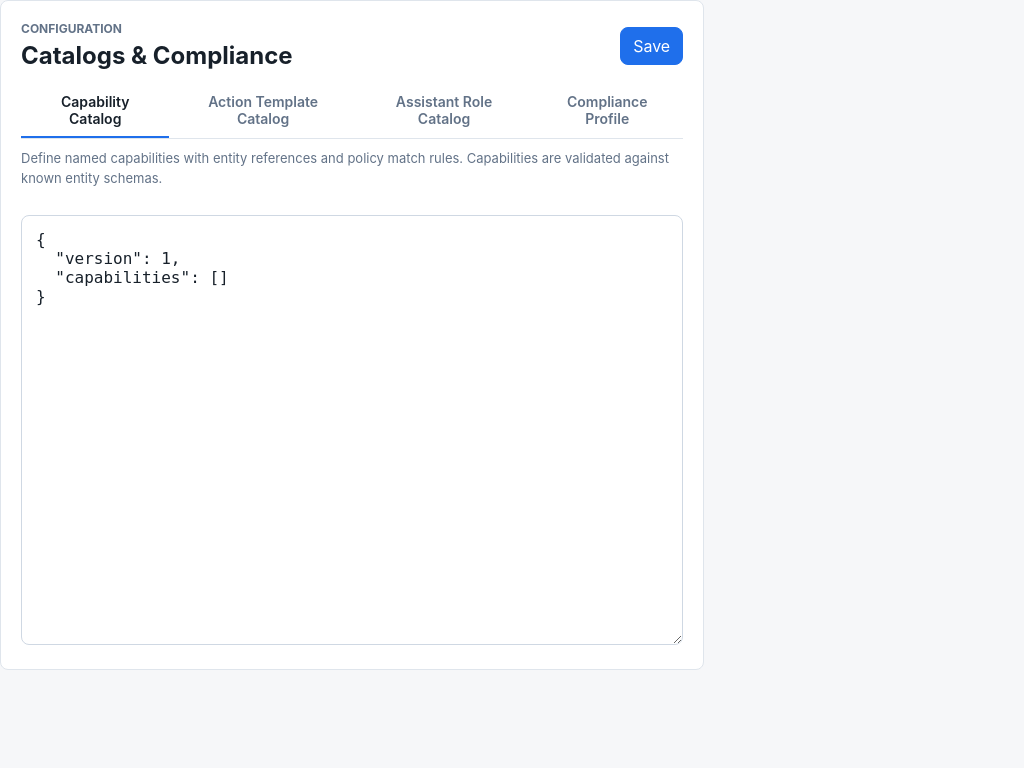
Test: CatalogsWorkspace › switches tabs and loads the corresponding catalog
Expected: the text box named "Capability Catalog JSON" is shown, [21,215,683,645]
Click the button "Compliance Profile" at x=607, y=111, box [531,84,683,138]
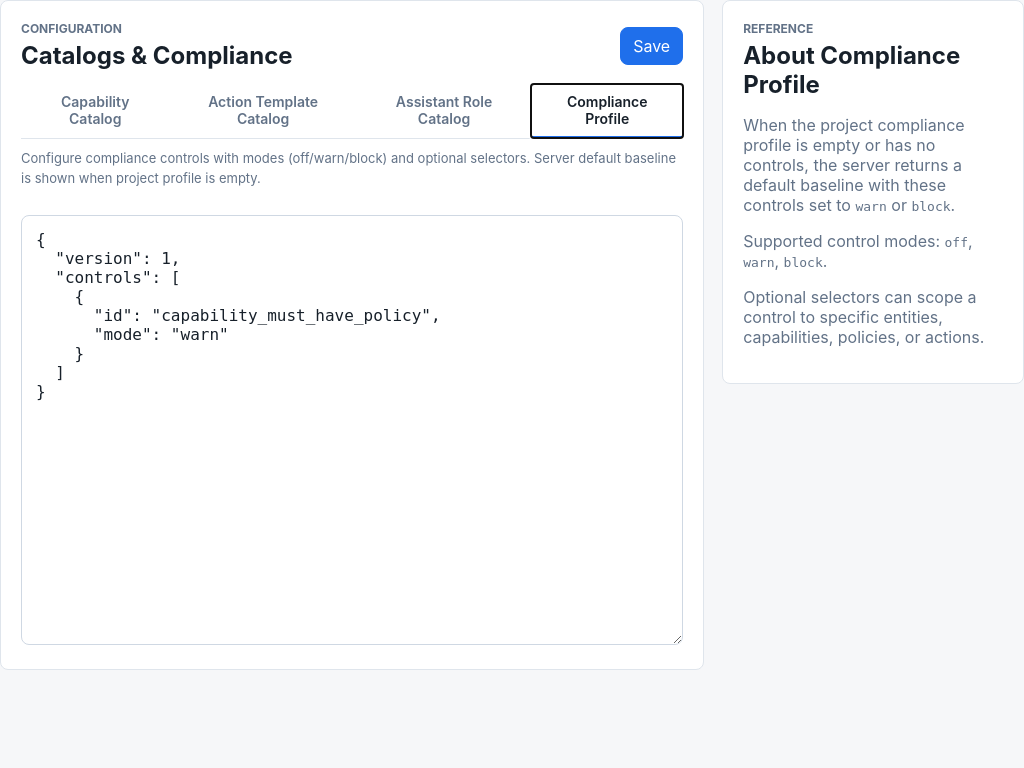
Expected: the text box named "Compliance Profile JSON" is shown, [21,215,683,645]
